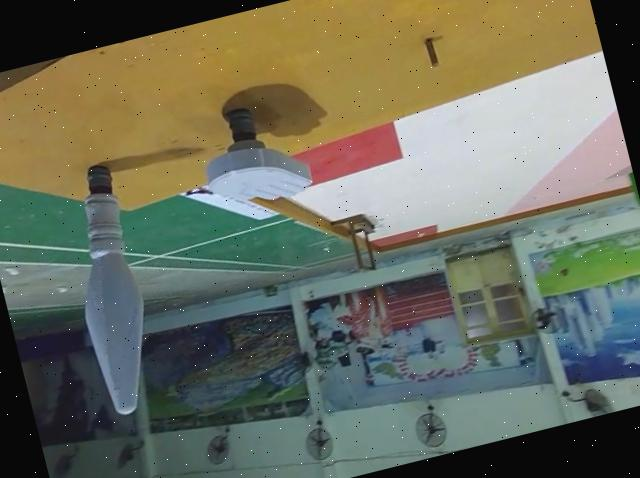Hand: (191, 92, 317, 217)
Sph: (43, 159, 176, 426)
